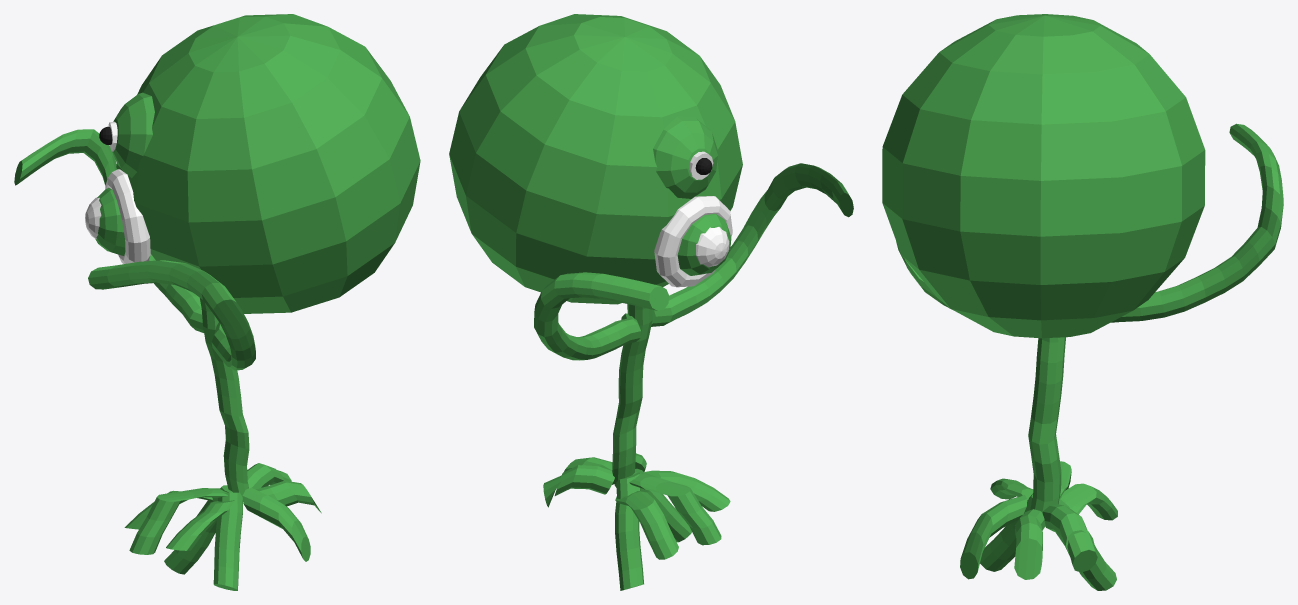
File: Enemy_Luke.fbx
The picture shows the model from 3 angles, left to right: view 1: azimuth 30°, elevation 25°; view 2: azimuth 150°, elevation 25°; view 3: azimuth 270°, elevation 25°; orthographic projection. The views are drawn at different scales.
Visible parts, largest first — view 1: mesh_1262173734, group_160127806, group_1546907935, group_1723058644, mesh_788608430, group_541236049, mesh_1291561801, group_515763706, group_2067589760, mesh_1511579326, group_1622341589, group_1928091769 (+2 smaller); view 2: mesh_1262173734, group_1723058644, group_160127806, group_1546907935, mesh_788608430, mesh_1291561801, group_1928091769, group_515763706, group_1185086659, mesh_1511579326, group_784142787, group_1622341589 (+2 smaller); view 3: mesh_1262173734, group_1723058644, group_1546907935, group_2067589760, group_2008961007, group_1185086659, group_541236049, group_784142787, group_1648015206, group_1928091769, group_1622341589.
Boxes of the visible parts, <box> form: mesh_1262173734: <box>116,14,420,313</box>; group_160127806: <box>88,260,255,370</box>; group_1546907935: <box>200,298,249,499</box>; group_1723058644: <box>14,129,203,332</box>; mesh_788608430: <box>112,92,154,178</box>; group_541236049: <box>213,492,242,590</box>; mesh_1291561801: <box>105,169,150,264</box>; group_515763706: <box>129,488,232,554</box>; group_2067589760: <box>242,487,310,561</box>; mesh_1511579326: <box>95,188,125,255</box>; group_1622341589: <box>166,500,234,550</box>; group_1928091769: <box>164,485,230,574</box>; mesh_1262173734: <box>449,14,742,304</box>; group_1723058644: <box>534,272,669,360</box>; group_160127806: <box>651,163,853,326</box>; group_1546907935: <box>612,304,652,484</box>; mesh_788608430: <box>653,116,717,198</box>; mesh_1291561801: <box>654,196,732,287</box>; group_1928091769: <box>615,472,643,590</box>; group_515763706: <box>629,472,721,545</box>; group_1185086659: <box>615,491,678,559</box>; mesh_1511579326: <box>677,213,731,275</box>; group_784142787: <box>554,465,614,495</box>; group_1622341589: <box>644,470,730,511</box>; mesh_1262173734: <box>882,14,1205,338</box>; group_1723058644: <box>1111,123,1283,322</box>; group_1546907935: <box>1028,337,1065,512</box>; group_2067589760: <box>960,495,1027,579</box>; group_2008961007: <box>1014,509,1045,579</box>; group_1185086659: <box>1059,483,1117,520</box>; group_541236049: <box>980,493,1033,571</box>; group_784142787: <box>1042,504,1087,552</box>; group_1648015206: <box>1067,530,1097,572</box>; group_1928091769: <box>1055,498,1116,590</box>; group_1622341589: <box>990,478,1033,500</box>.
Size of the model in its own units: 110 by 163 by 100.
